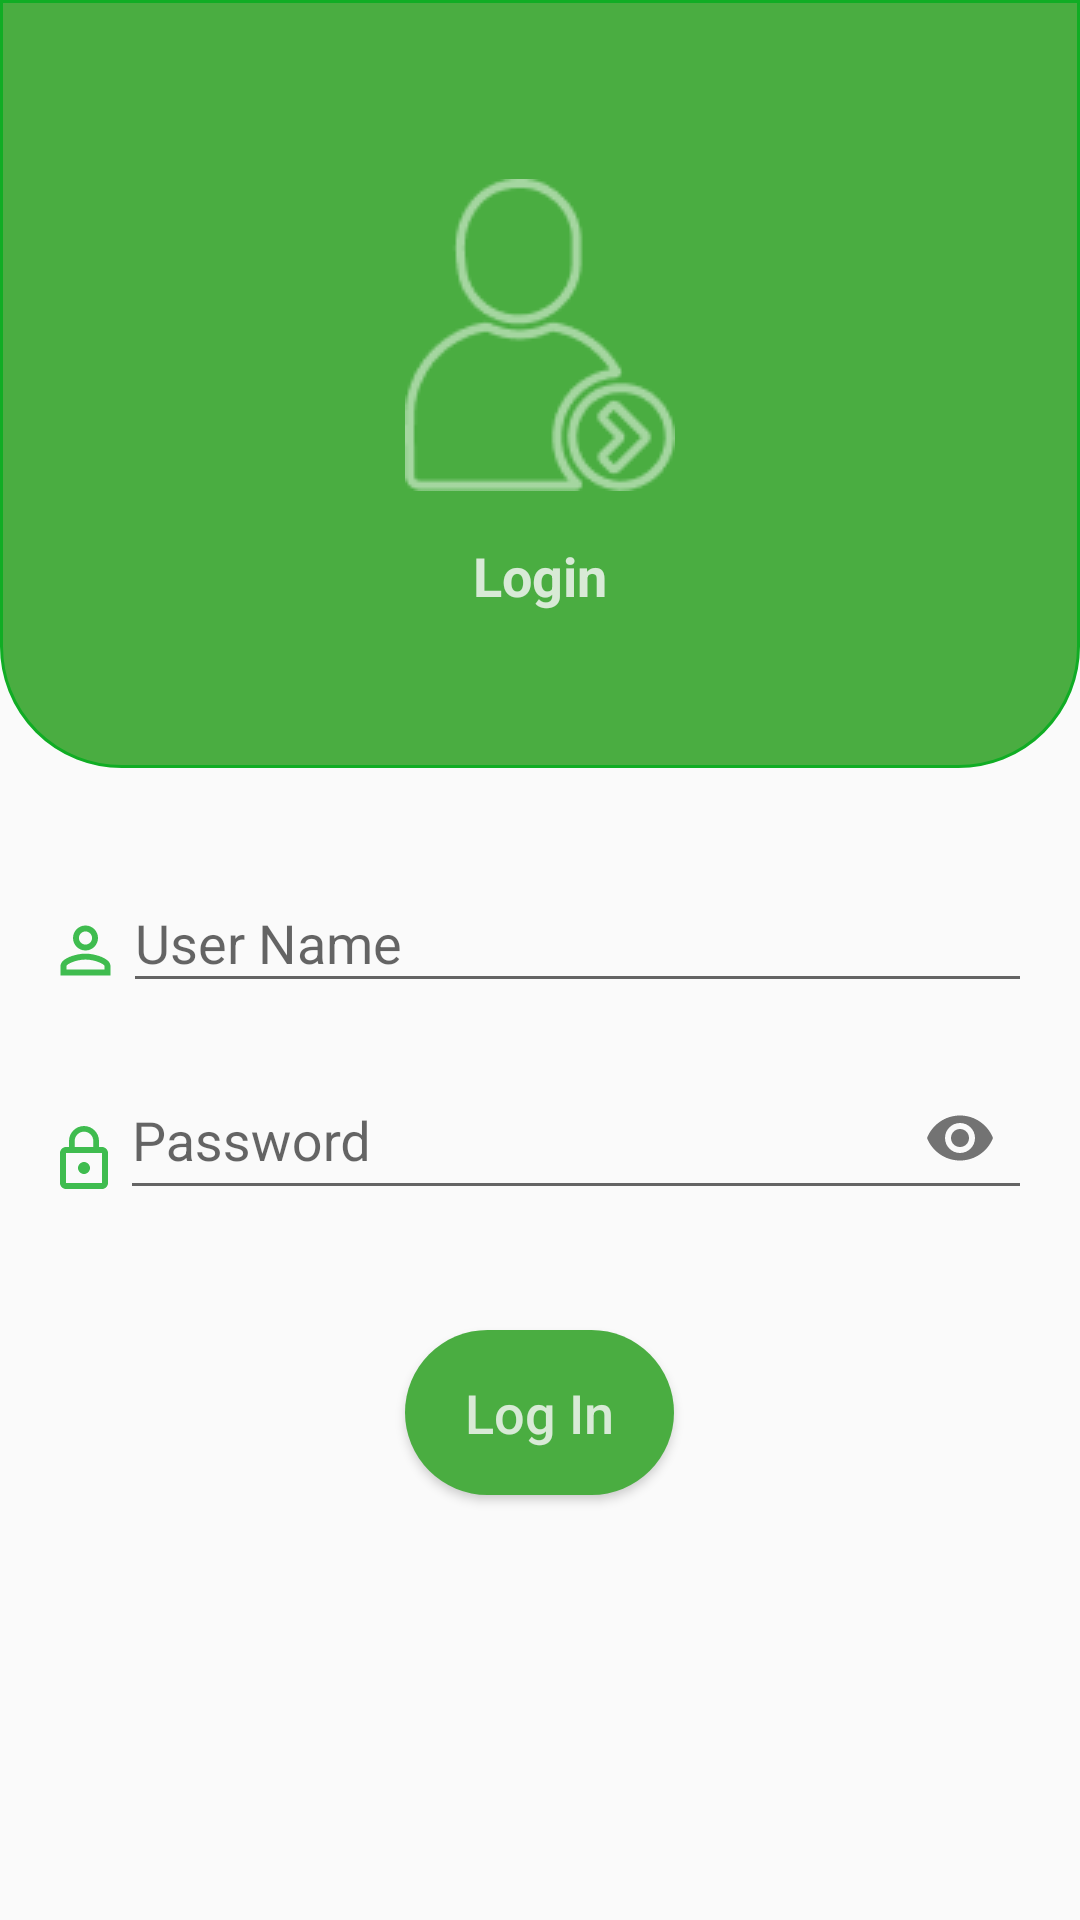

Where to tap for icons on this 1080x1920 app screen, as [x,y]:
lock: [84,1157]
person: [85,950]
